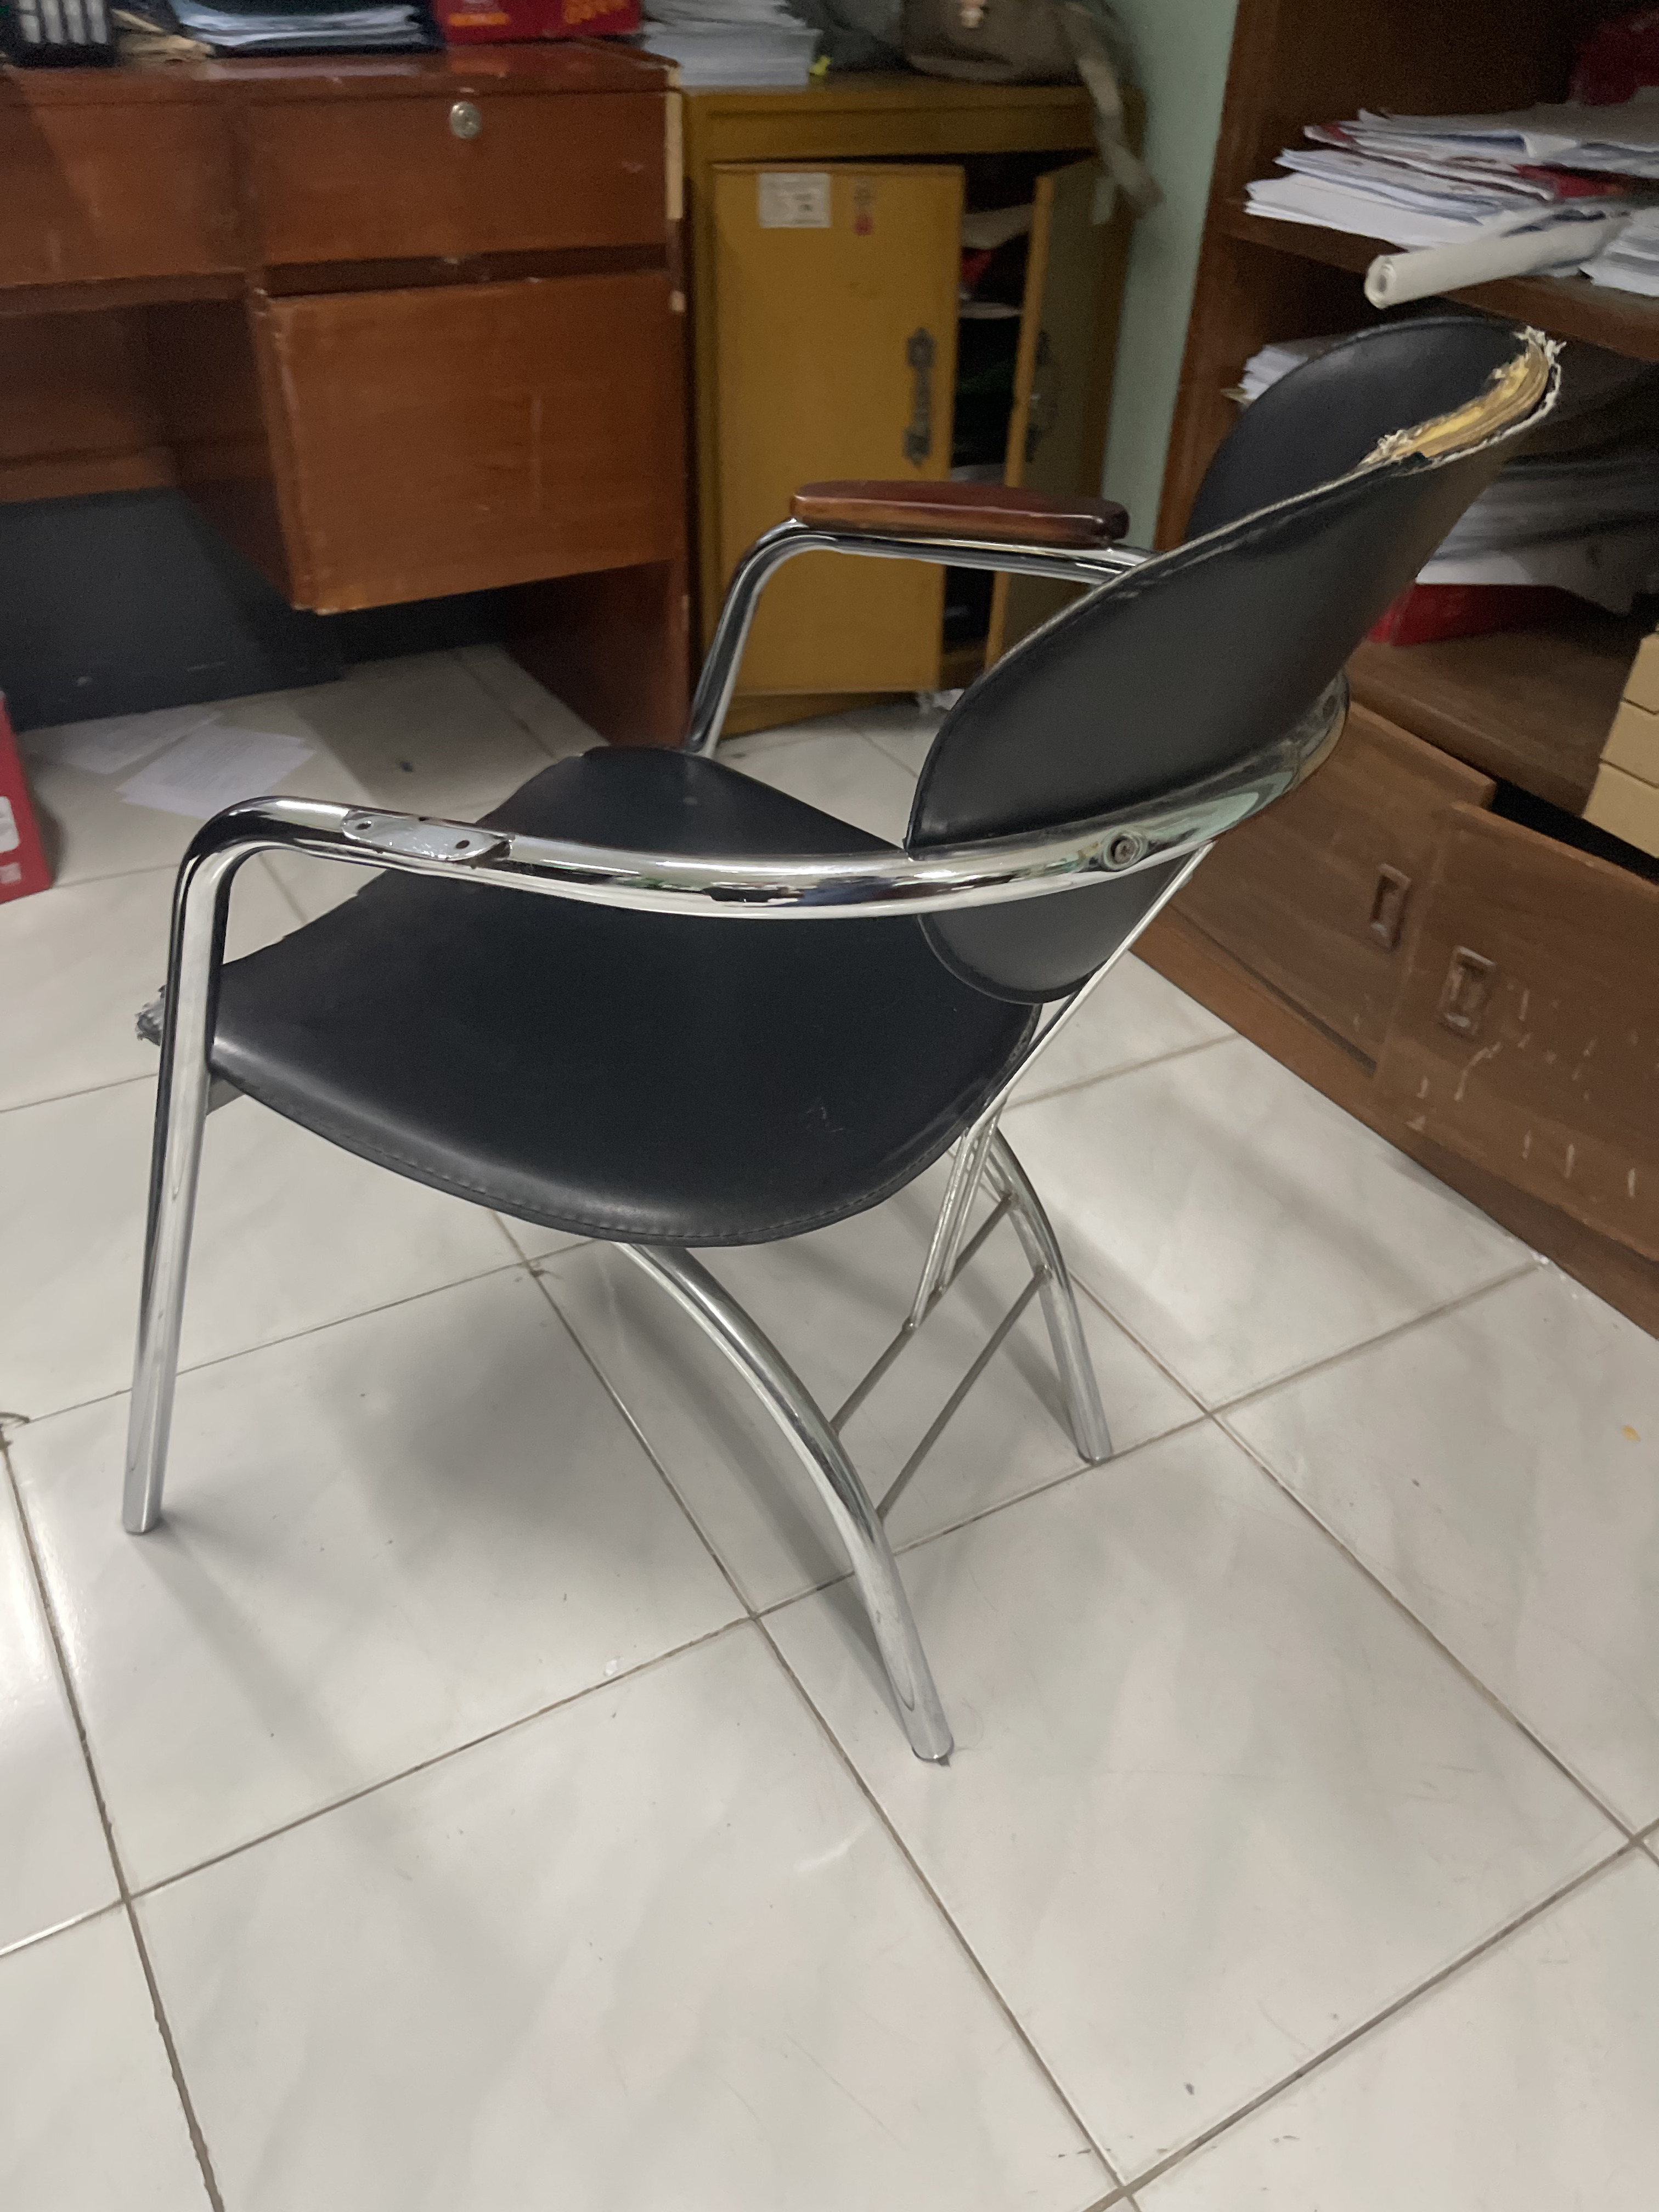chair1: (131, 314, 1567, 1785)
